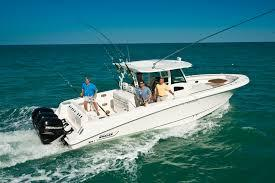fishing boat: (32, 14, 252, 151)
